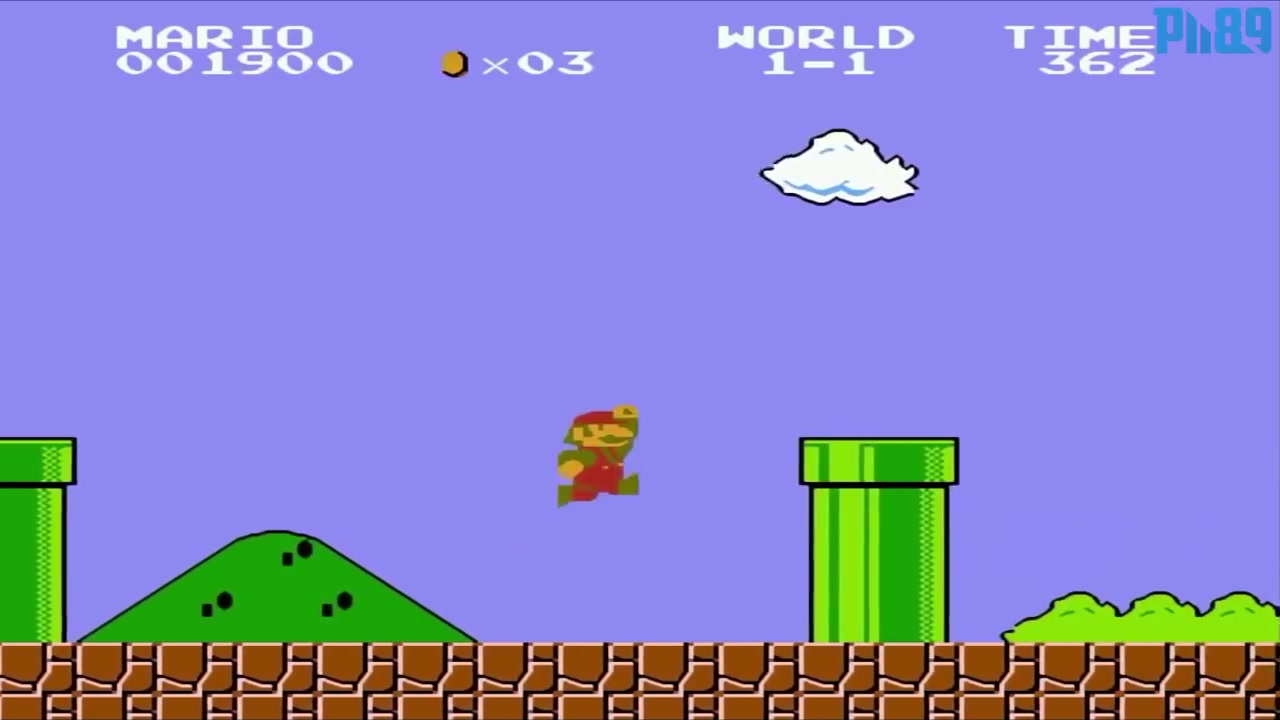mario: (547, 401, 649, 512)
